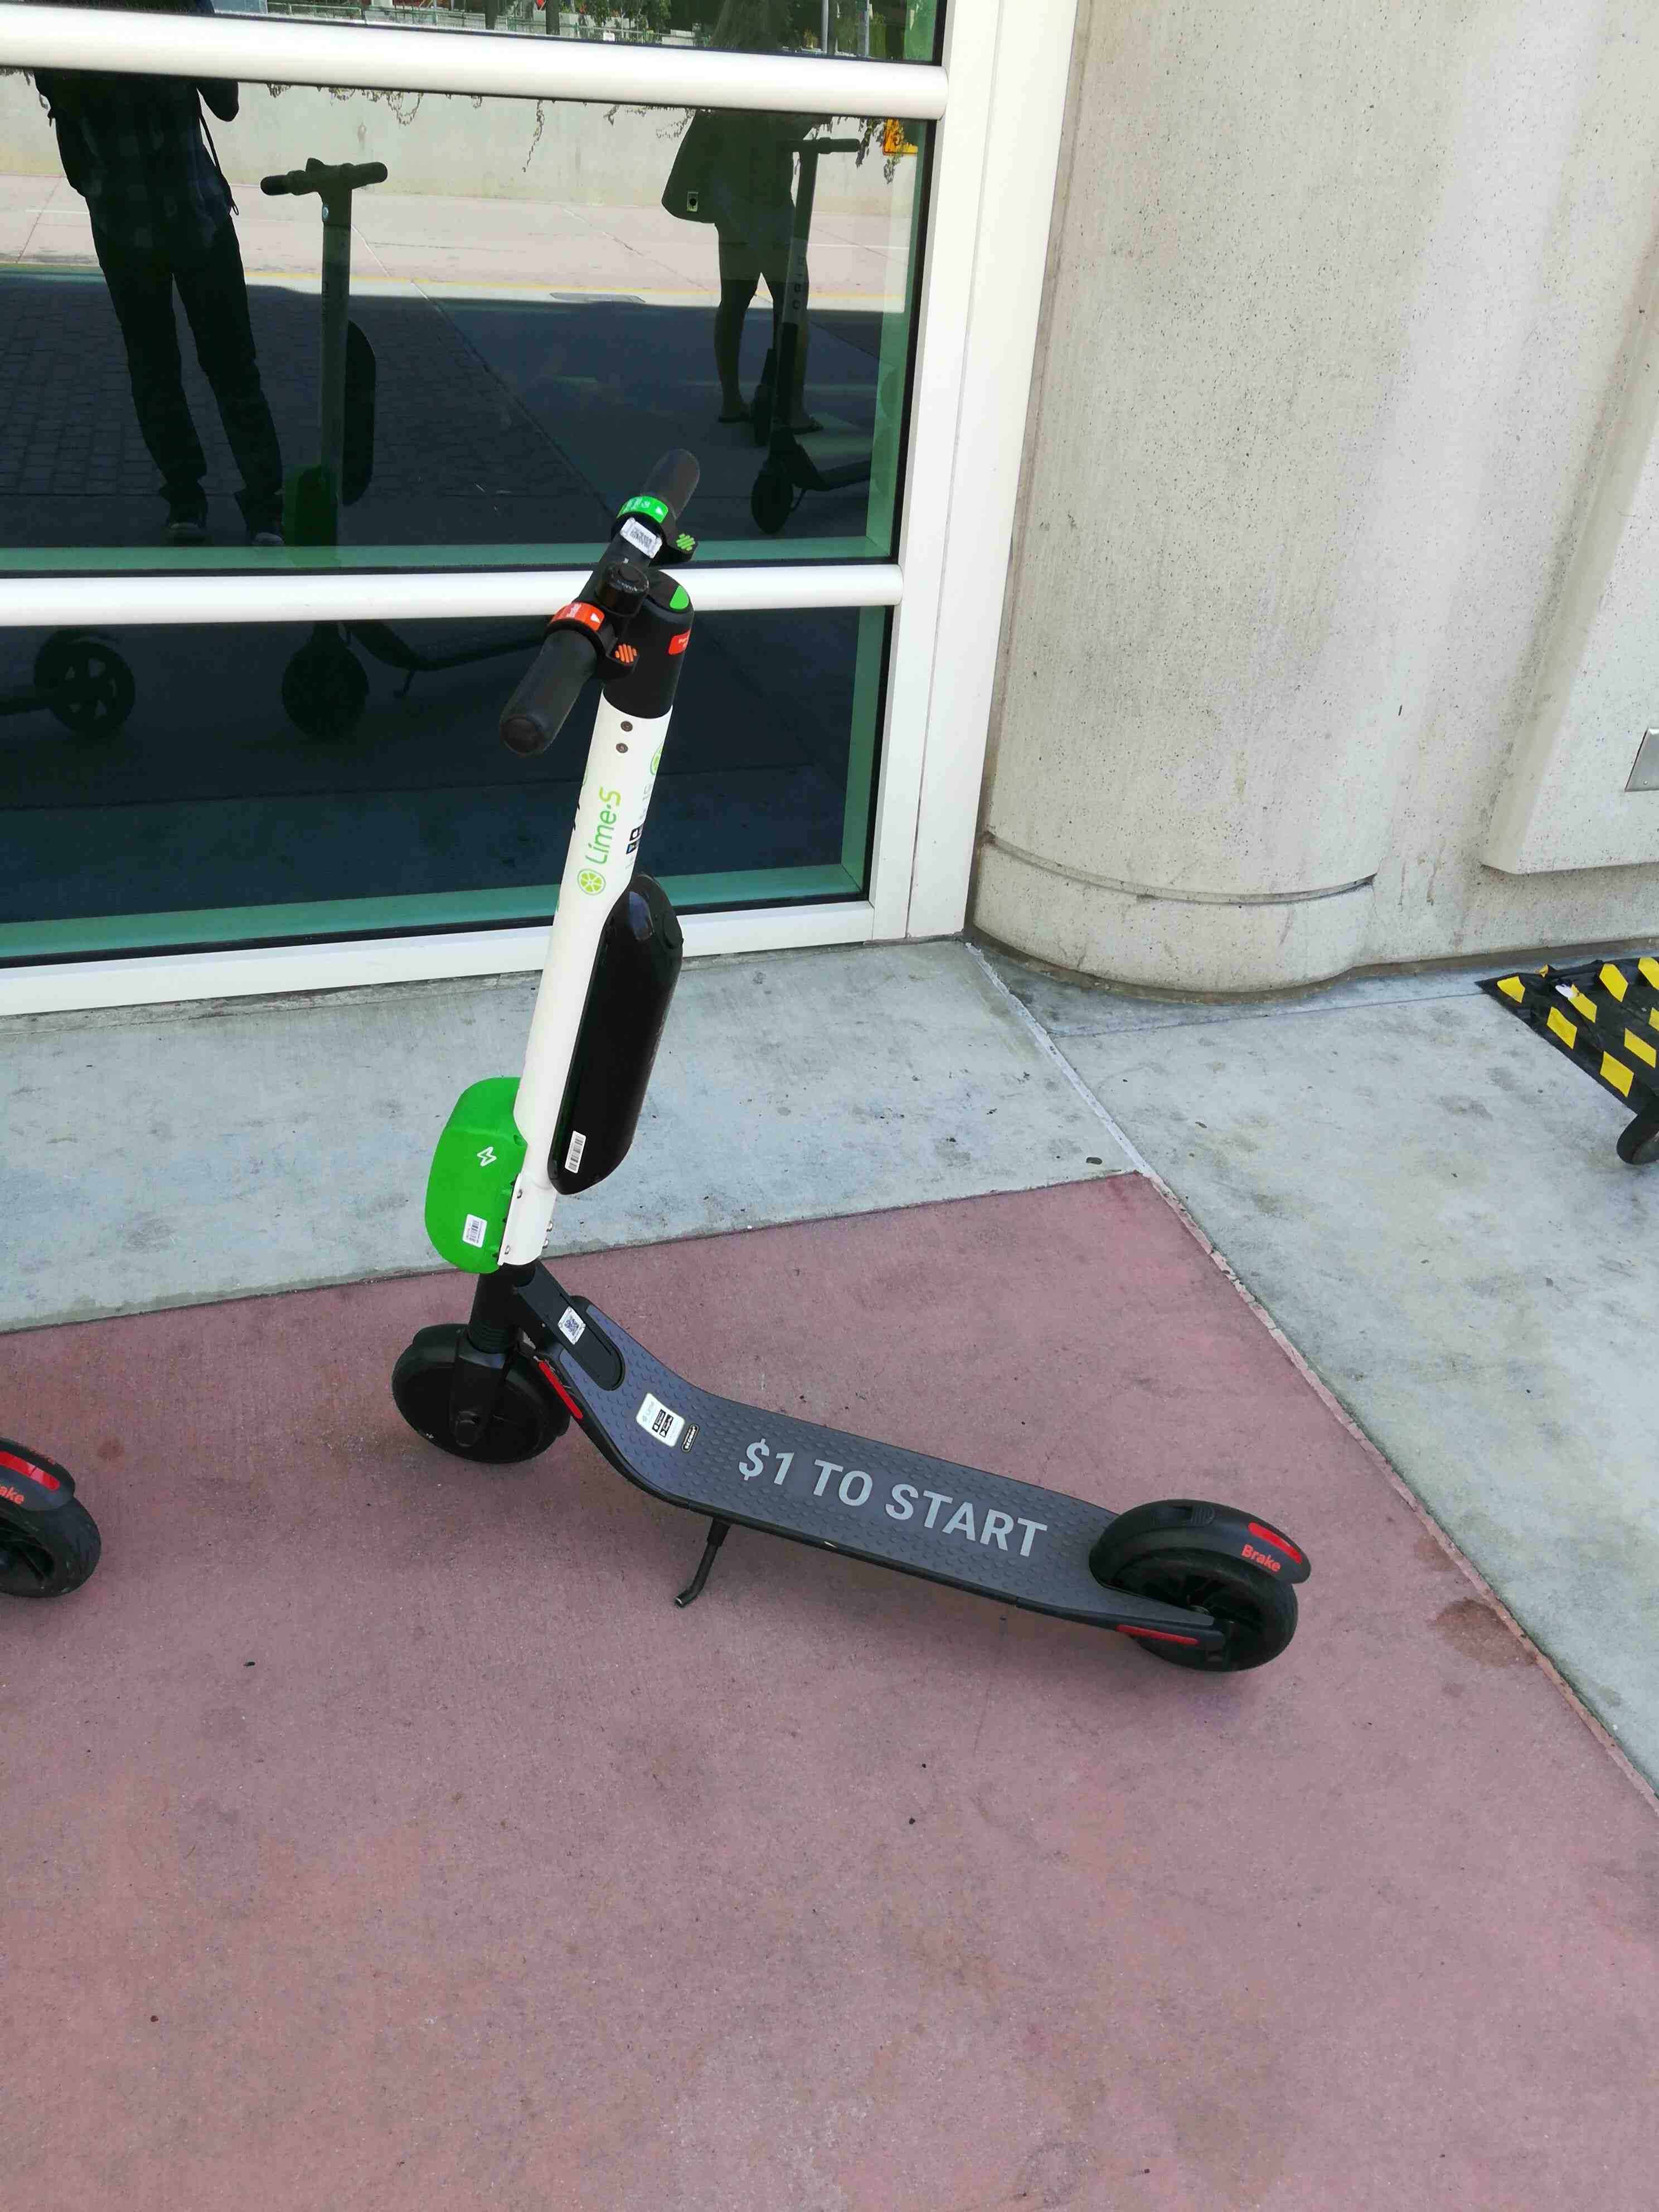scooter: (366, 441, 1344, 1689)
